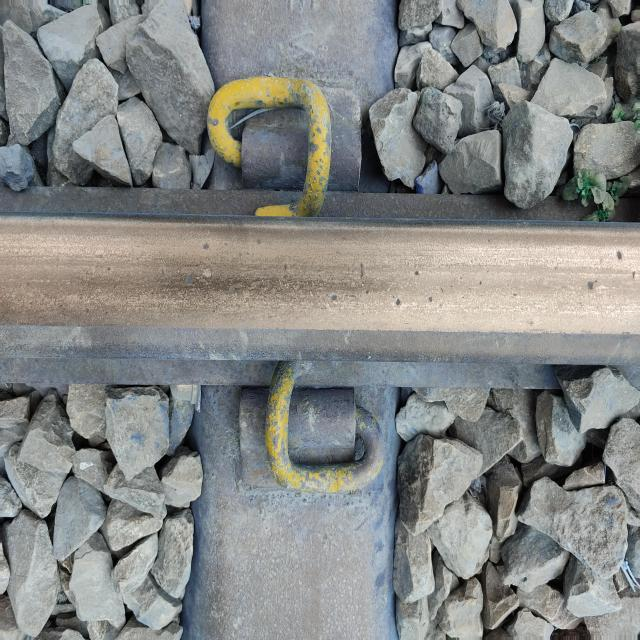broken_rail_medium: (330, 258, 371, 302), (395, 269, 435, 307), (585, 277, 599, 291), (201, 238, 209, 253), (616, 249, 624, 260), (255, 234, 262, 246), (630, 268, 638, 278)
